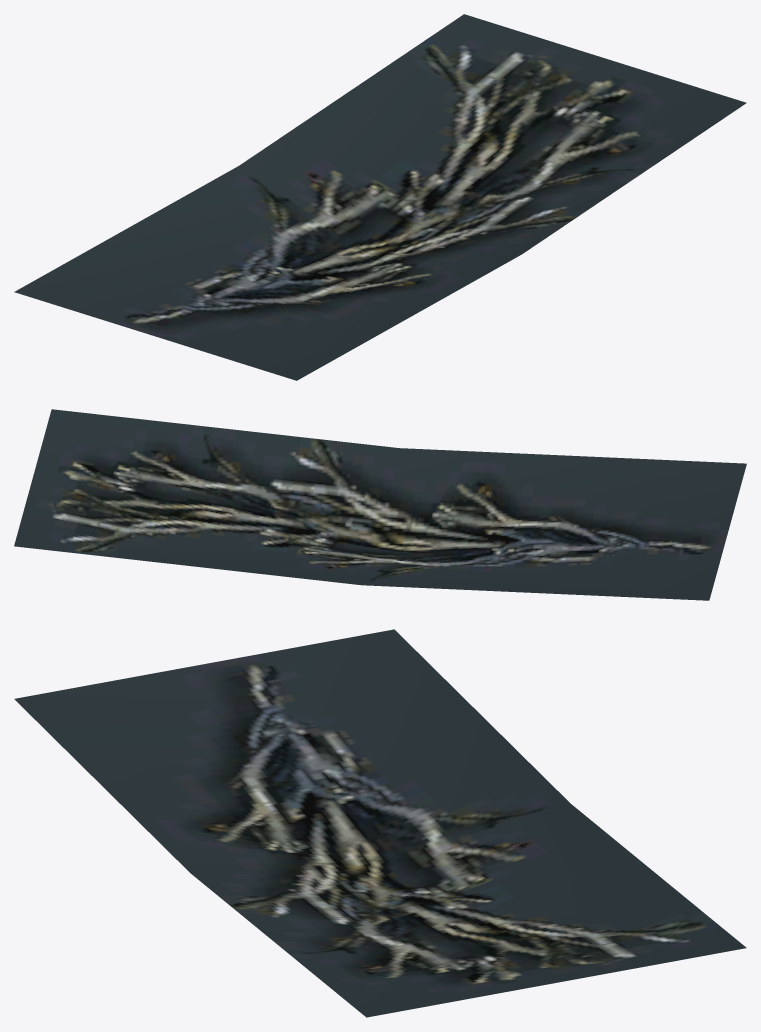
File: shor_seaweed_sm_l0.fbx
3 renders of one model, top to bottom at view 1: azimuth 30°, elevation 25°; view 2: azimuth 150°, elevation 25°; view 3: azimuth 270°, elevation 25°, orthographic. The views are drawn at different scales.
Visible parts, largest first — view 1: mesh_node; view 2: mesh_node; view 3: mesh_node.
Boxes of the visible parts, left/top/right/bottom form: mesh_node: left=14, top=14, right=746, bottom=380; mesh_node: left=14, top=409, right=746, bottom=600; mesh_node: left=14, top=629, right=746, bottom=1017.
Size of the model in its own units: 1.1 by 0.0825 by 0.8254.
